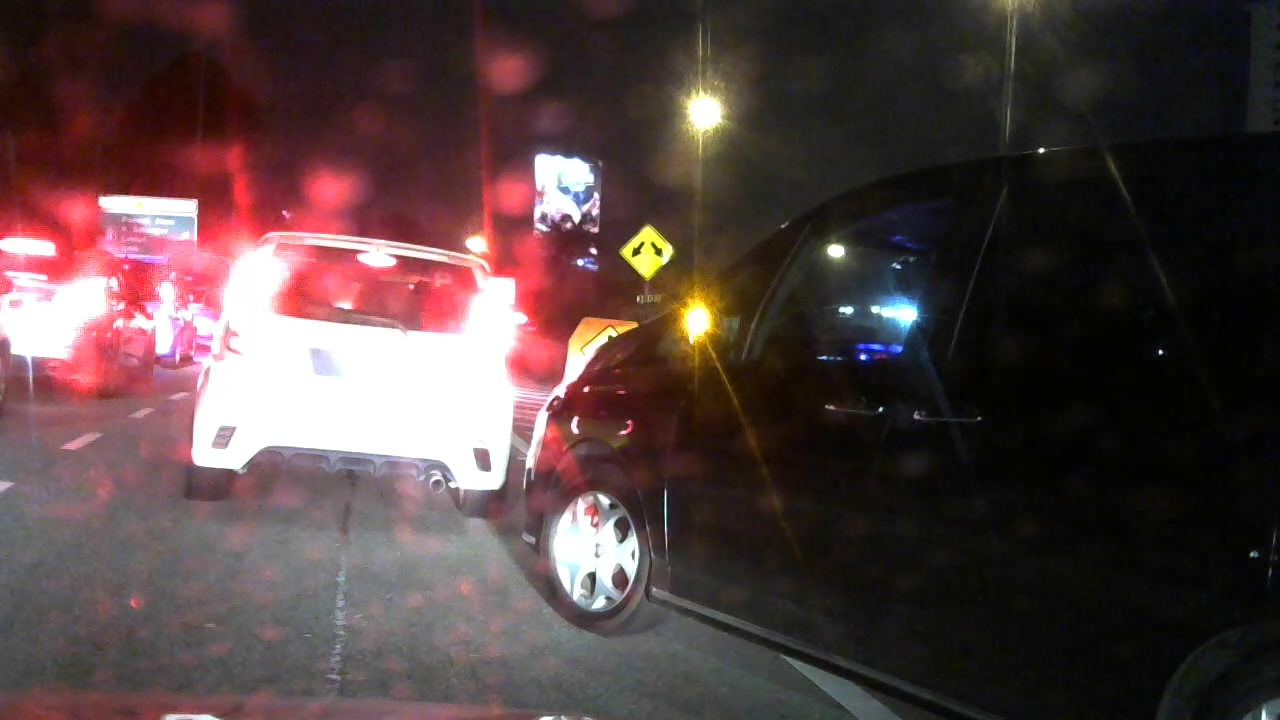Car: (517, 104, 1242, 694), (193, 222, 522, 517), (1, 223, 155, 386), (114, 251, 204, 371)
